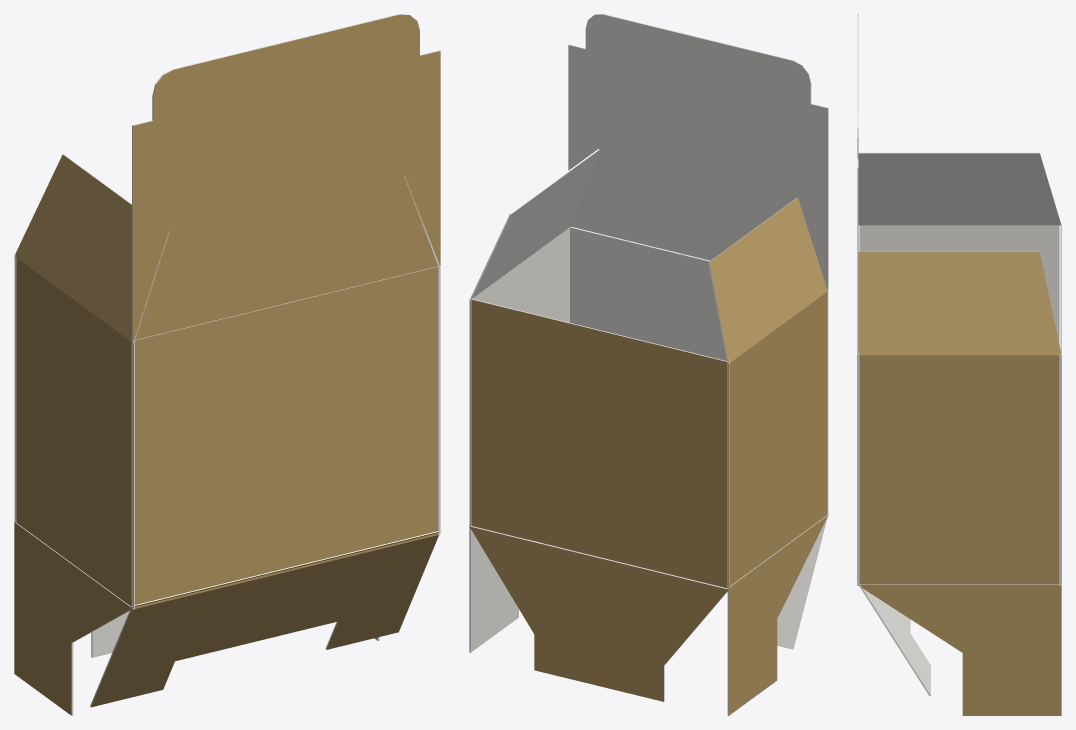
3 views of the same model, side by side, from view 1: azimuth 30°, elevation 25°; view 2: azimuth 150°, elevation 25°; view 3: azimuth 270°, elevation 25° (orthographic). The views are drawn at different scales.
Visible parts, largest first — view 1: Packive_Box_fefco0215; view 2: Packive_Box_fefco0215; view 3: Packive_Box_fefco0215.
Part boxes in pixels (box(x1,y1,x2,y2)): Packive_Box_fefco0215: box(14, 14, 440, 715); Packive_Box_fefco0215: box(469, 14, 828, 715); Packive_Box_fefco0215: box(857, 14, 1061, 715).
Bounding box in the file's own units: 0.3 × 0.636 × 0.2.
Materials: 26 (13 with a texture image).
